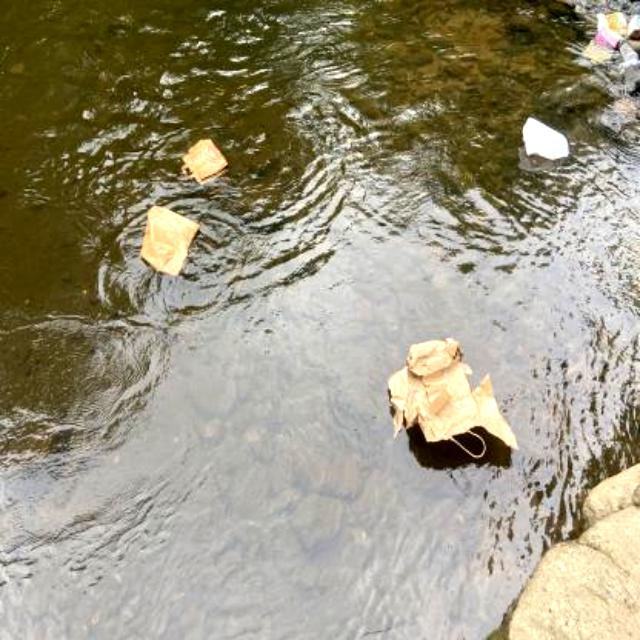Cardboard: (577, 12, 639, 68)
Paper: (385, 334, 521, 466), (138, 200, 202, 282), (177, 135, 229, 191)
Plastic: (520, 114, 572, 164)
